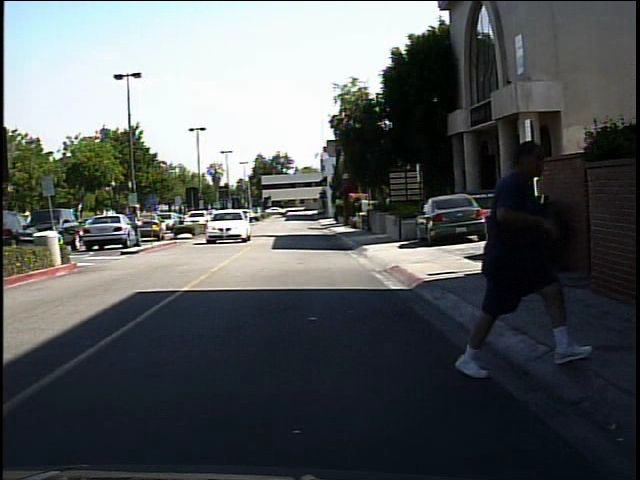person: (465, 123, 570, 382), (124, 202, 147, 250)
